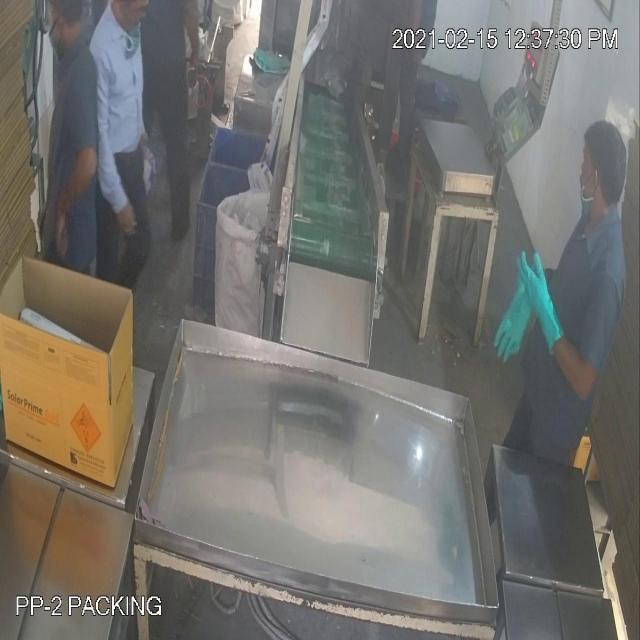No_Gloves: (20, 47, 544, 301)
